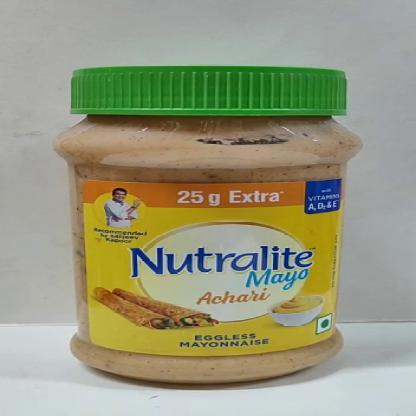Nutralite ACHARI MAYO 300g-275g-25g-: (48, 67, 363, 390)
